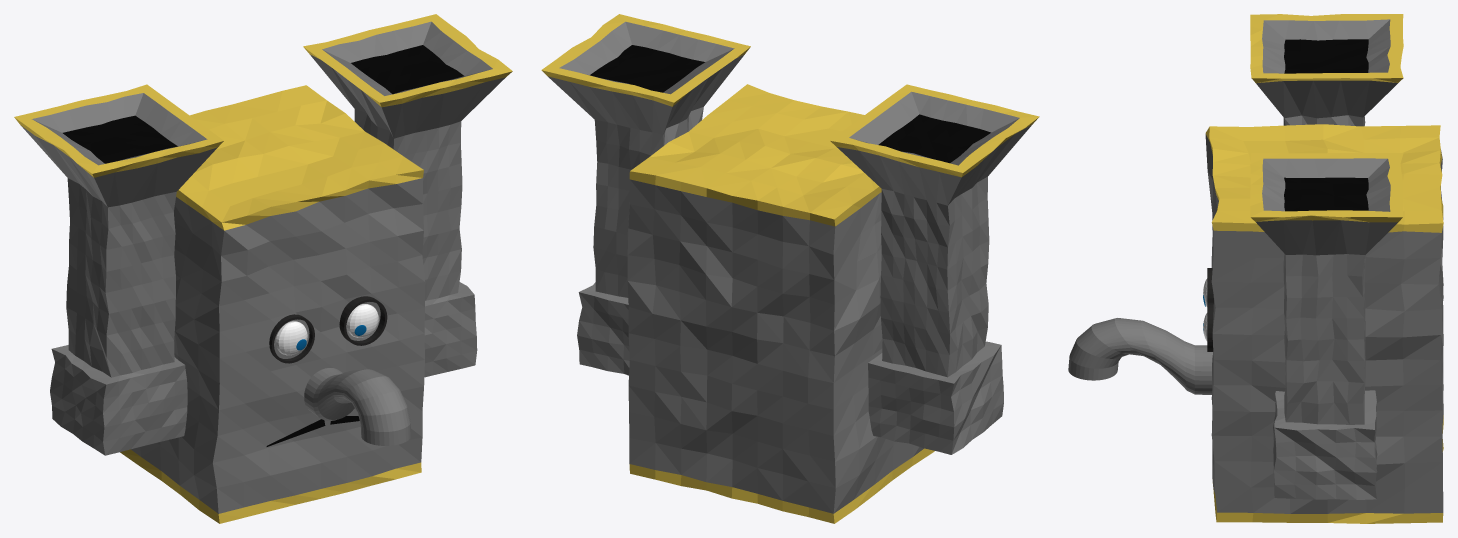
Rendered from INCUBATEUR_reel2.fbx.
The picture shows the model from 3 angles, left to right: view 1: azimuth 30°, elevation 25°; view 2: azimuth 150°, elevation 25°; view 3: azimuth 270°, elevation 25°; orthographic projection.
Parts seen in each view (by area): view 1: eye_contour.001; view 2: eye_contour.001; view 3: eye_contour.001.
Boxes of the visible parts, x1=… form: eye_contour.001: x1=14, y1=14, x2=512, y2=523; eye_contour.001: x1=541, y1=14, x2=1039, y2=523; eye_contour.001: x1=1068, y1=14, x2=1443, y2=523.
Size of the model in its own units: 2.9 by 2.38 by 2.26.
